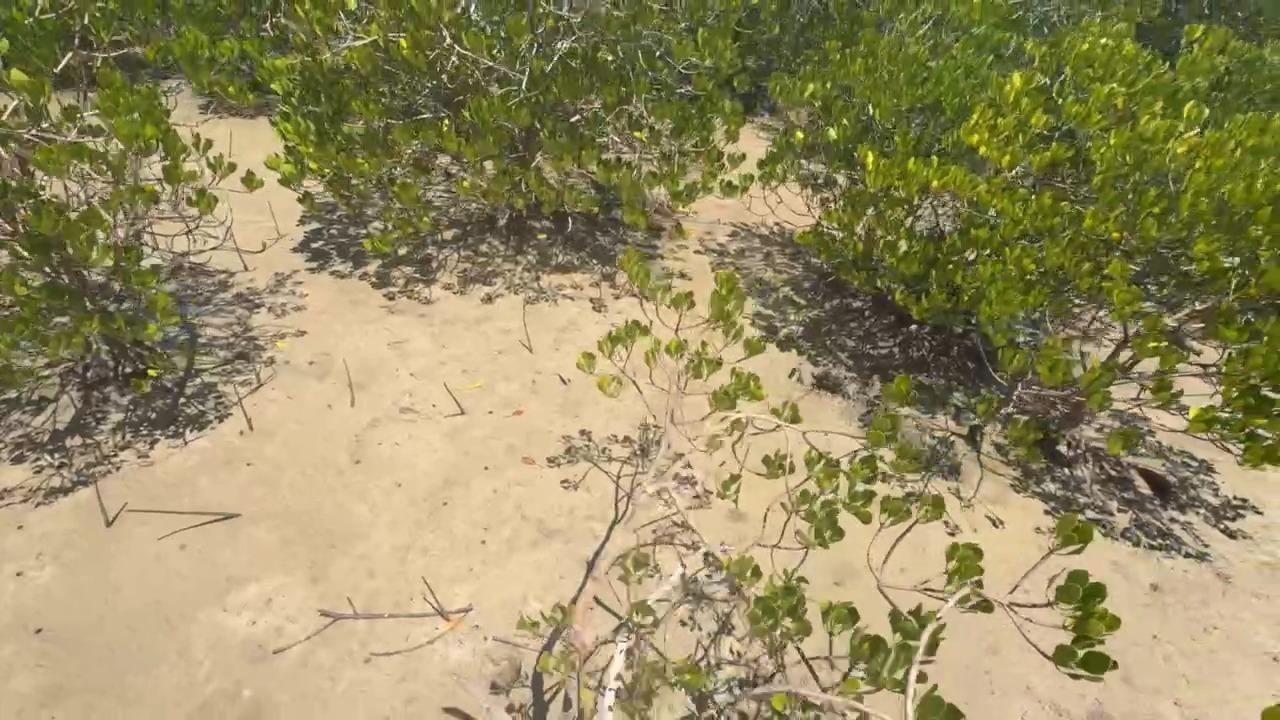Tree: (157, 513, 242, 541), (234, 384, 253, 431), (93, 478, 111, 527), (442, 382, 464, 416), (423, 598, 449, 623), (343, 358, 355, 407), (268, 201, 281, 236), (517, 340, 532, 354), (228, 128, 233, 157)
